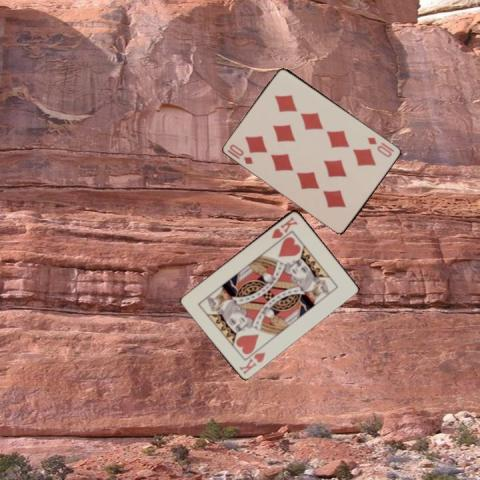10d: (365, 134, 396, 159), (224, 141, 255, 166)
Kh: (268, 213, 298, 240), (236, 349, 267, 375)
